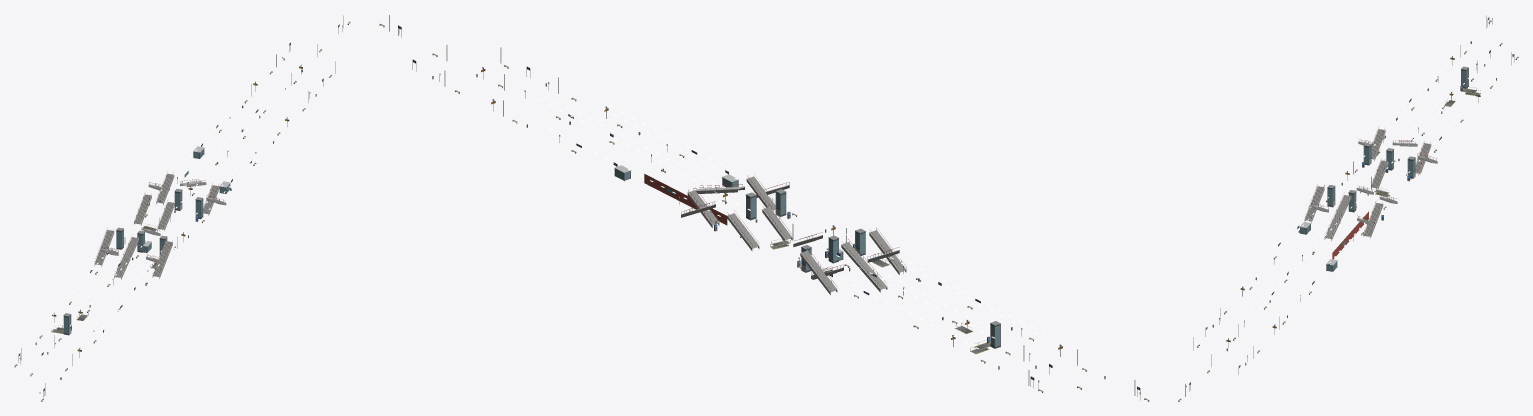
The model's file is stp_hardbruecke.glb.
3 renders of one model, left to right at view 1: azimuth 90°, elevation 25°; view 2: azimuth 150°, elevation 25°; view 3: azimuth 270°, elevation 25°, orthographic. The views are drawn at different scales.
Parts seen in each view (by area): view 1: solid, stglass, stlamps; view 2: solid, stglass, stlamps; view 3: solid, stglass, stlamps.
Boxes of the visible parts, left/top/right/bottom form: solid: left=14, top=15, right=350, bottom=401; stglass: left=64, top=149, right=230, bottom=334; stlamps: left=20, top=14, right=343, bottom=382; solid: left=379, top=15, right=1149, bottom=401; stglass: left=615, top=168, right=1000, bottom=348; stlamps: left=388, top=14, right=1136, bottom=379; solid: left=1178, top=15, right=1518, bottom=401; stglass: left=1300, top=69, right=1468, bottom=271; stlamps: left=1185, top=14, right=1512, bottom=383.
Bounding box in the file's own units: 315 × 10.94 × 119.
Materials: 4 (3 with a texture image).
